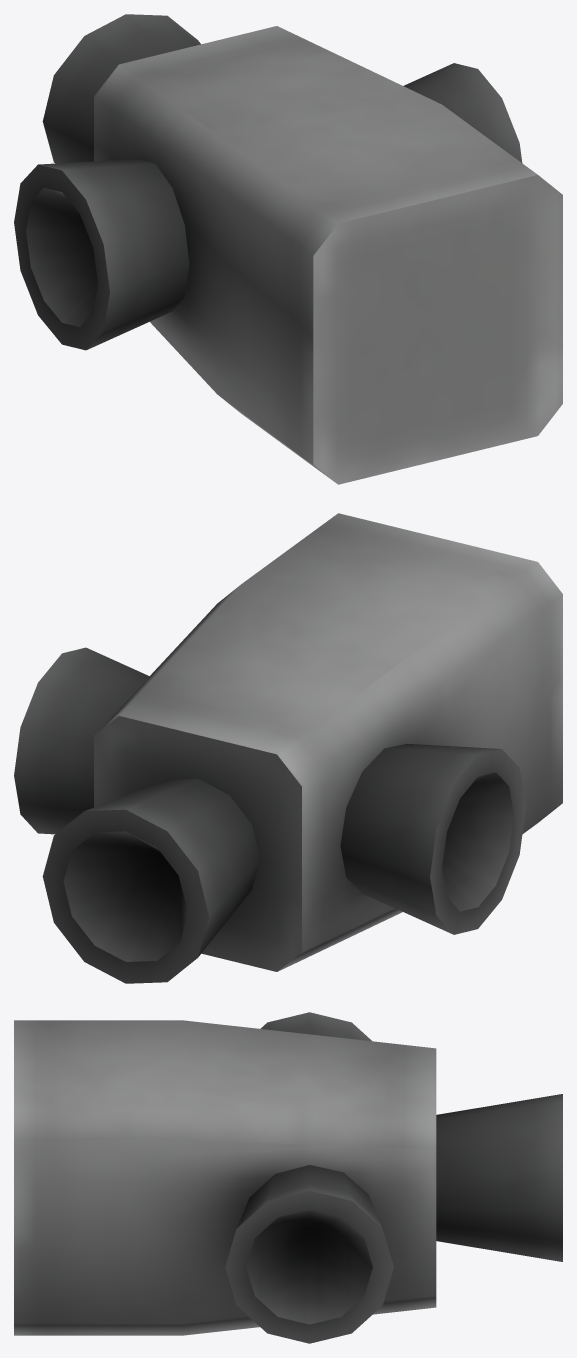
Rendered from octans_rcs_srf_2_extended.obj.
The picture shows the model from 3 angles, top to bottom: view 1: azimuth 30°, elevation 25°; view 2: azimuth 150°, elevation 25°; view 3: azimuth 270°, elevation 25°; orthographic projection. The views are drawn at different scales.
Visible parts, largest first — view 1: mesh; view 2: mesh; view 3: mesh.
Boxes of the visible parts, box(x1,y1,x2,y2) form: mesh: box(14, 14, 562, 484); mesh: box(14, 513, 562, 983); mesh: box(14, 1012, 562, 1343).
Bounding box in the file's own units: 0.125 × 0.075 × 0.1625.
Materials: 1 (1 with a texture image).
